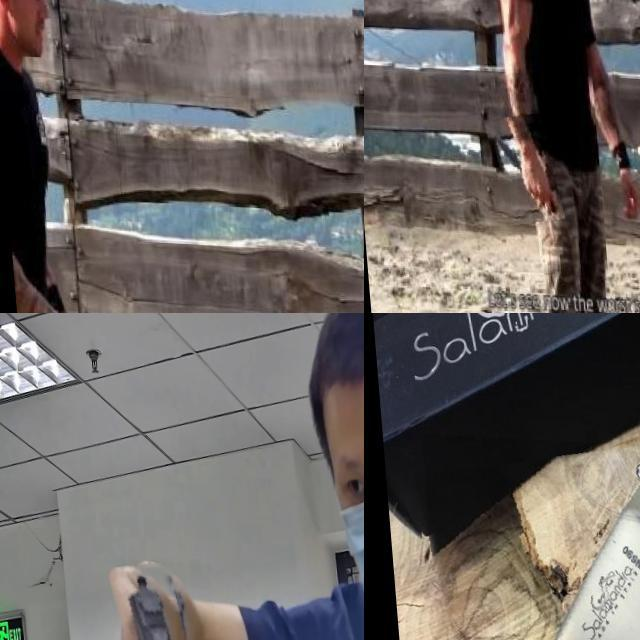-: (417, 433, 640, 640), (482, 111, 554, 224)
gun-knife-thesis - v11 Yolov5 augmented: (114, 555, 226, 640)
